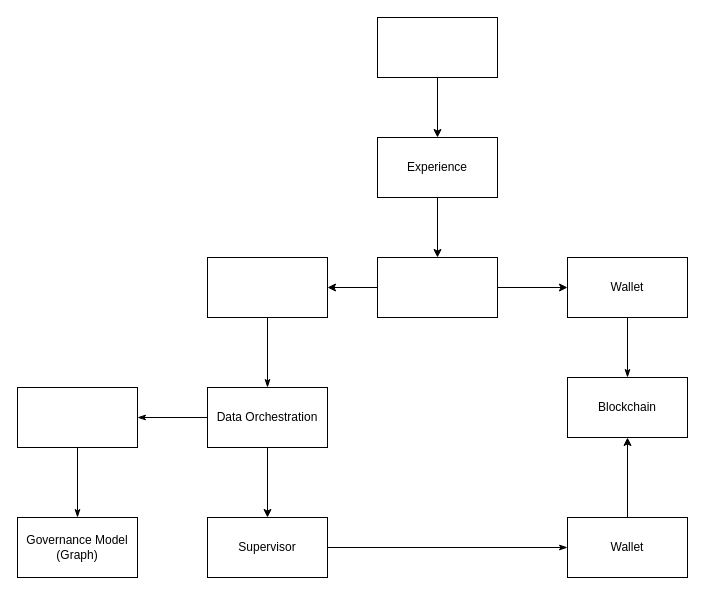
The diagram is 705 pixels wide and 595 high, and some of its shapes have lost their labels. Here are the shapes that lost their labels. From the top down, the box of each, then its label:
(376, 16, 498, 78): User
(206, 256, 328, 318): Data Stream
(376, 256, 498, 318): Gateway
(16, 386, 138, 448): Organisation Ontology (Graph)
